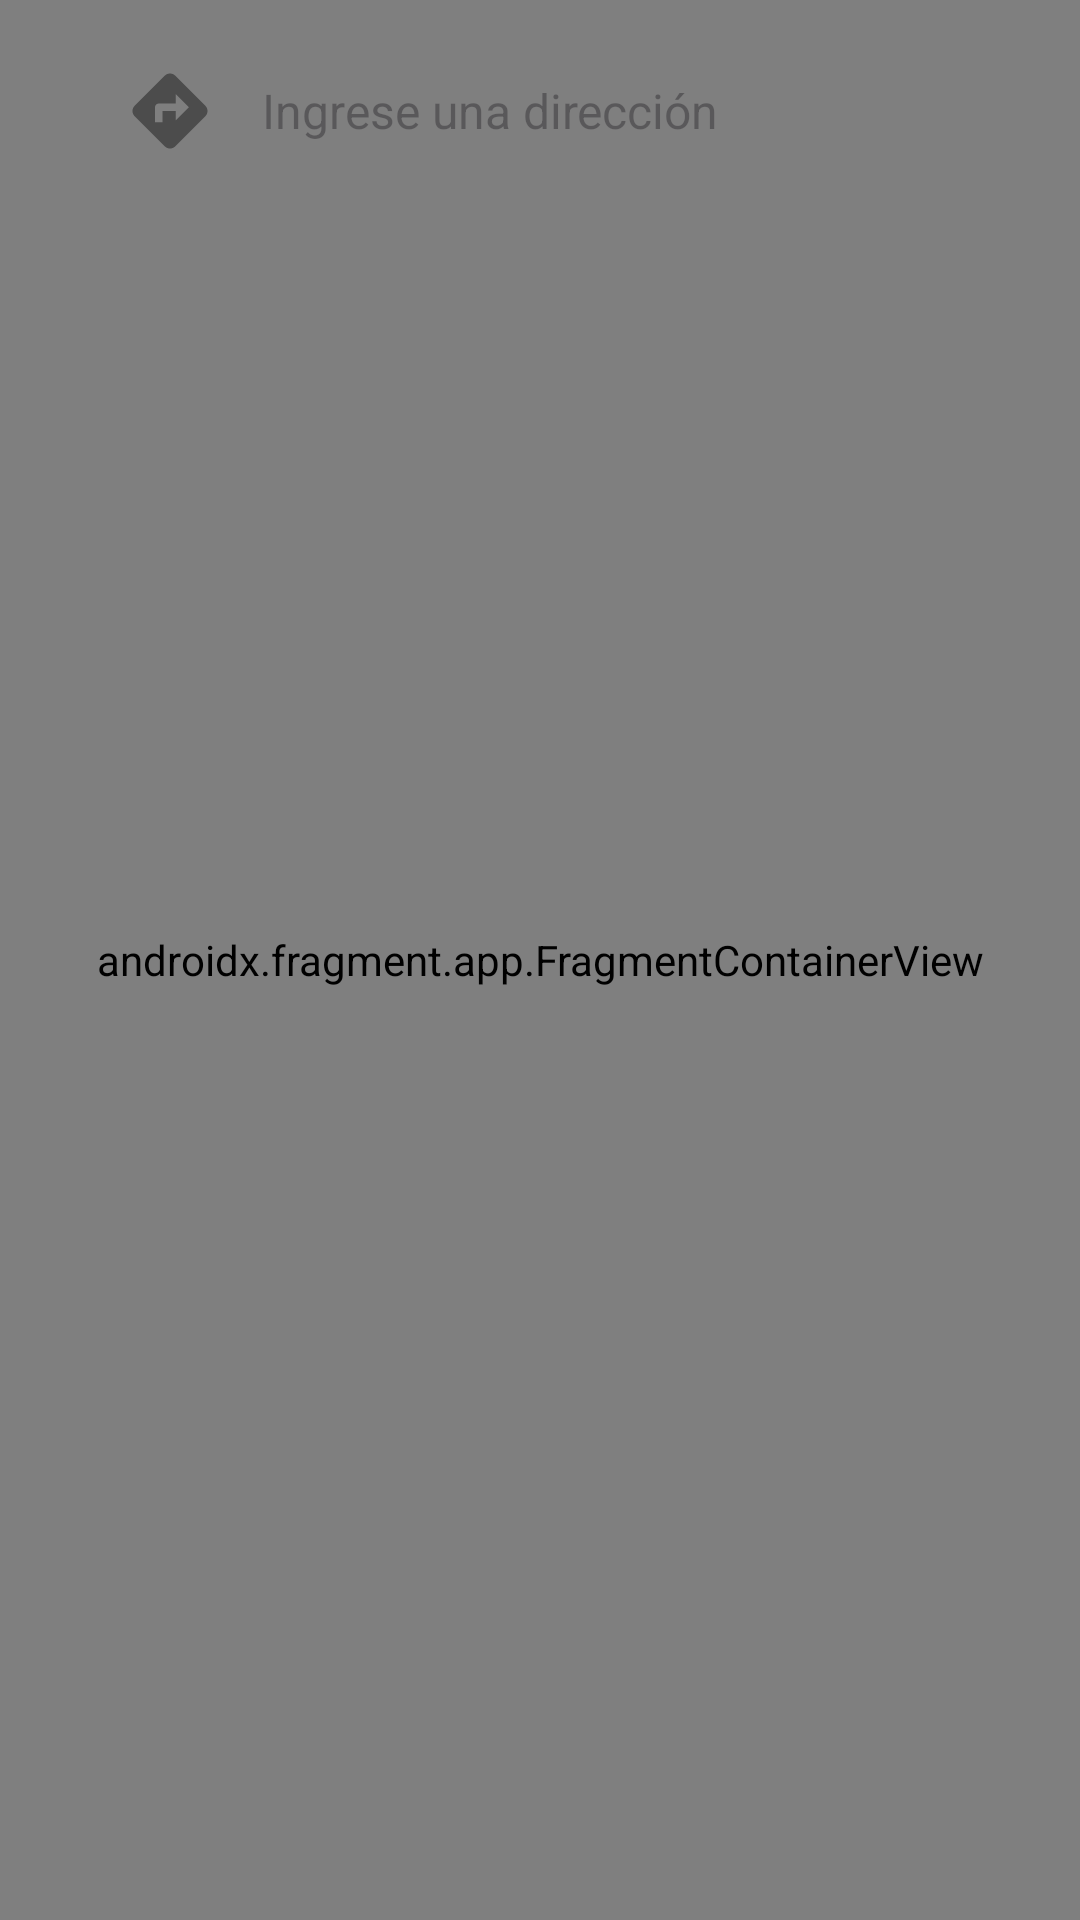

Named icons in this screenshot (1080px×1920px) and their bounding boxes, (x1, y1, x2, y2):
Direction: (132, 73, 208, 149)
